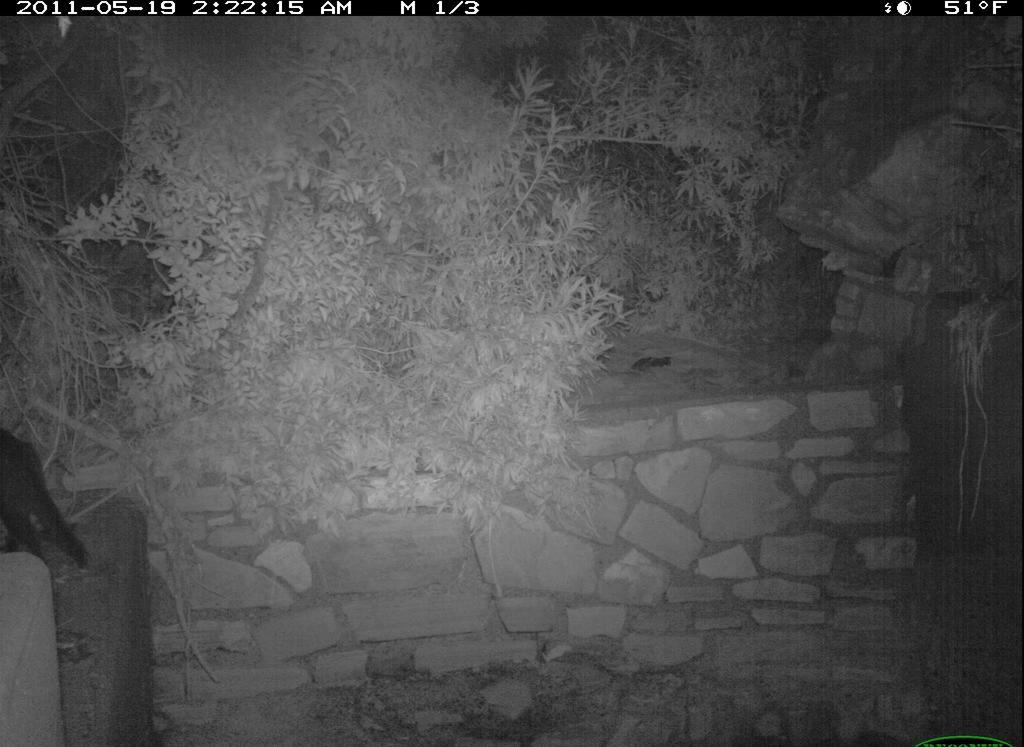cat: (2, 414, 95, 584)
